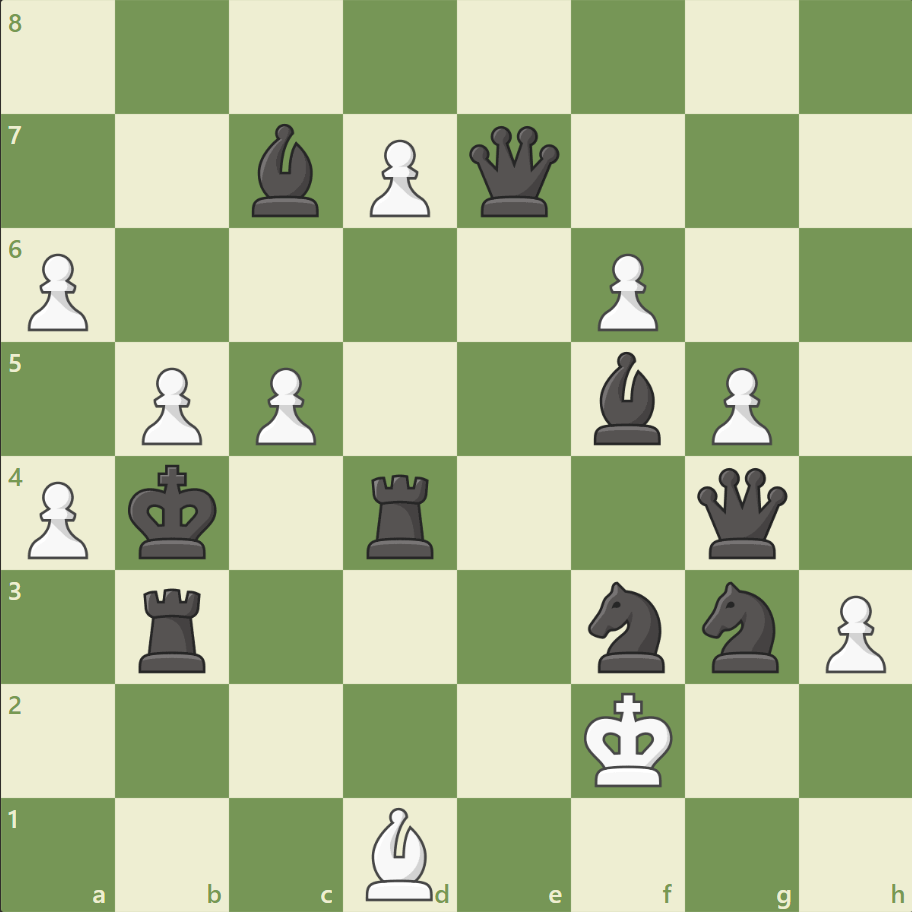B: (358, 801, 442, 904)
K: (579, 685, 679, 793)
P: (20, 246, 95, 337), (133, 359, 208, 450), (247, 359, 322, 450), (701, 359, 776, 450), (20, 473, 95, 564), (361, 132, 435, 223), (588, 246, 662, 337), (815, 586, 889, 677)
b: (244, 120, 328, 222), (585, 347, 669, 449)
k: (124, 458, 224, 566)
n: (579, 575, 676, 677), (692, 575, 789, 677)
q: (464, 122, 563, 222), (691, 463, 790, 562)
r: (360, 466, 442, 563), (133, 579, 215, 676)
